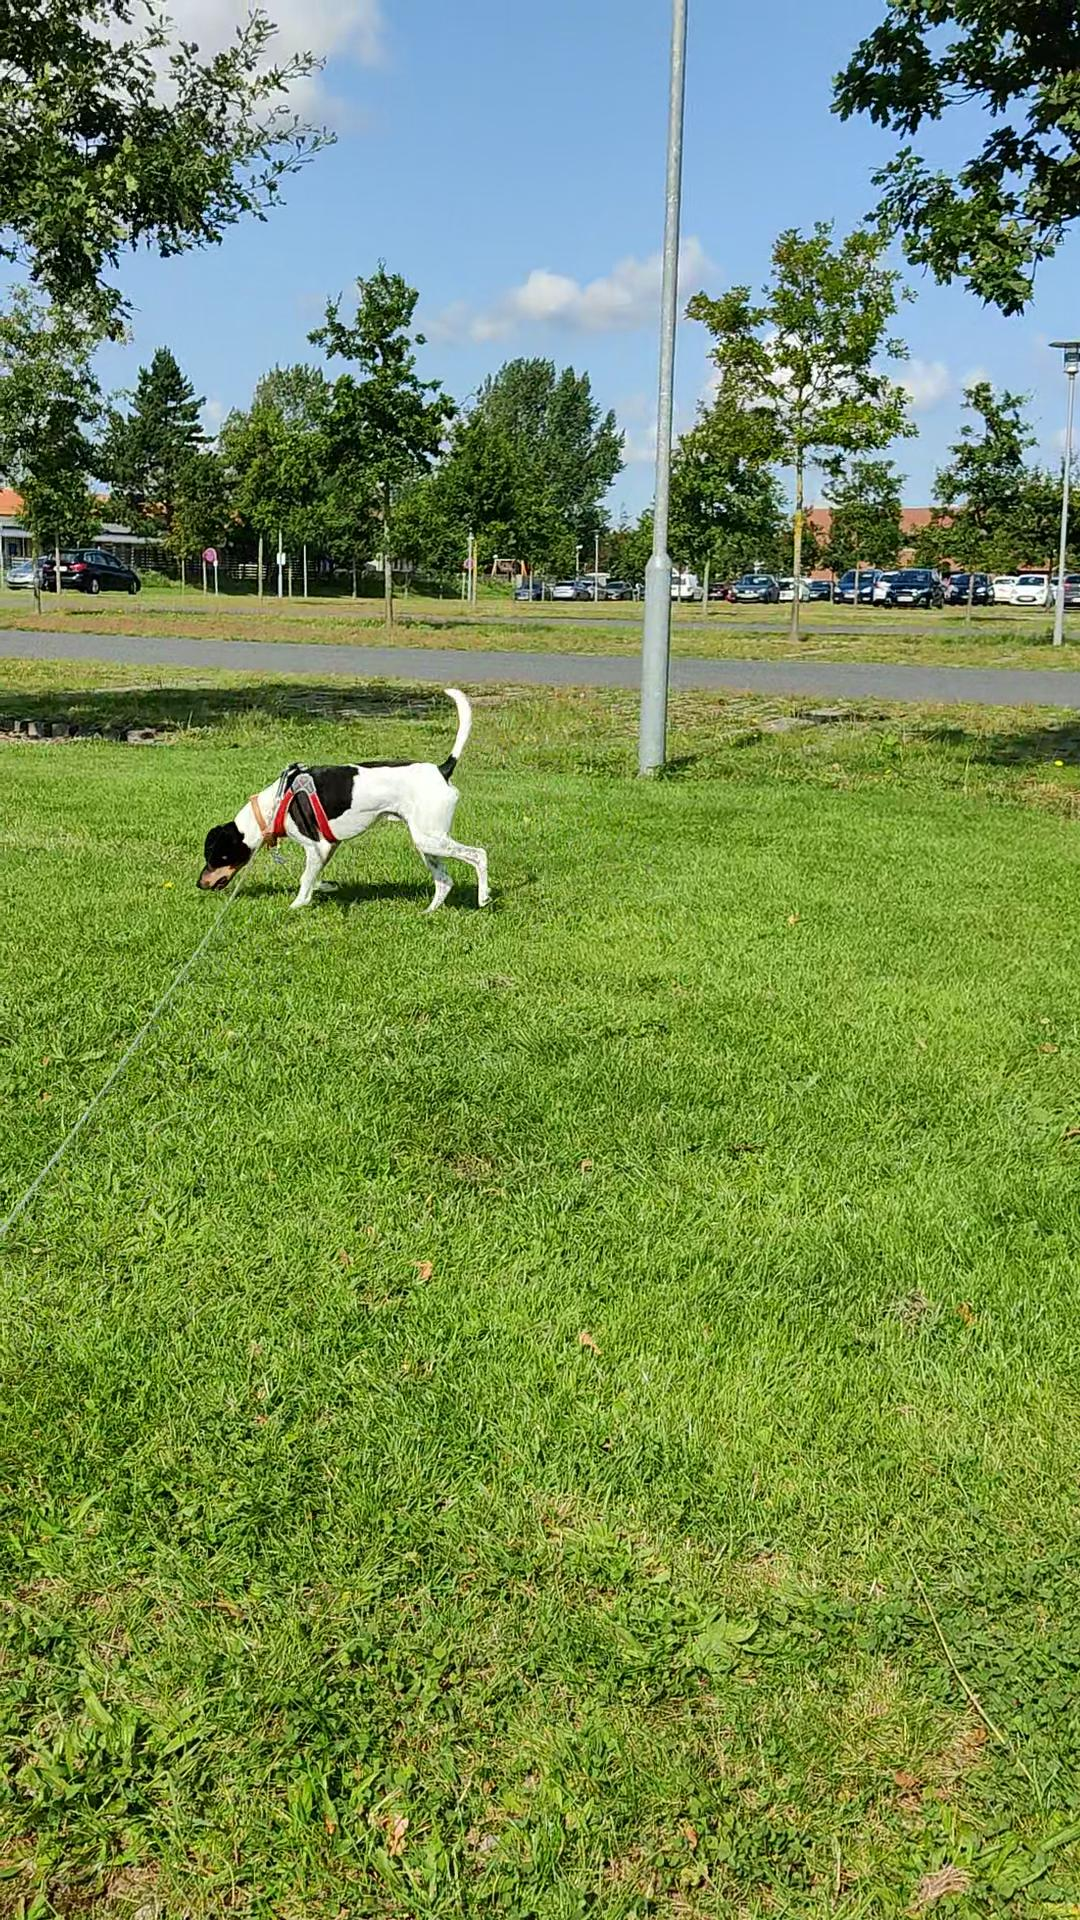Dog: (189, 680, 495, 913)
